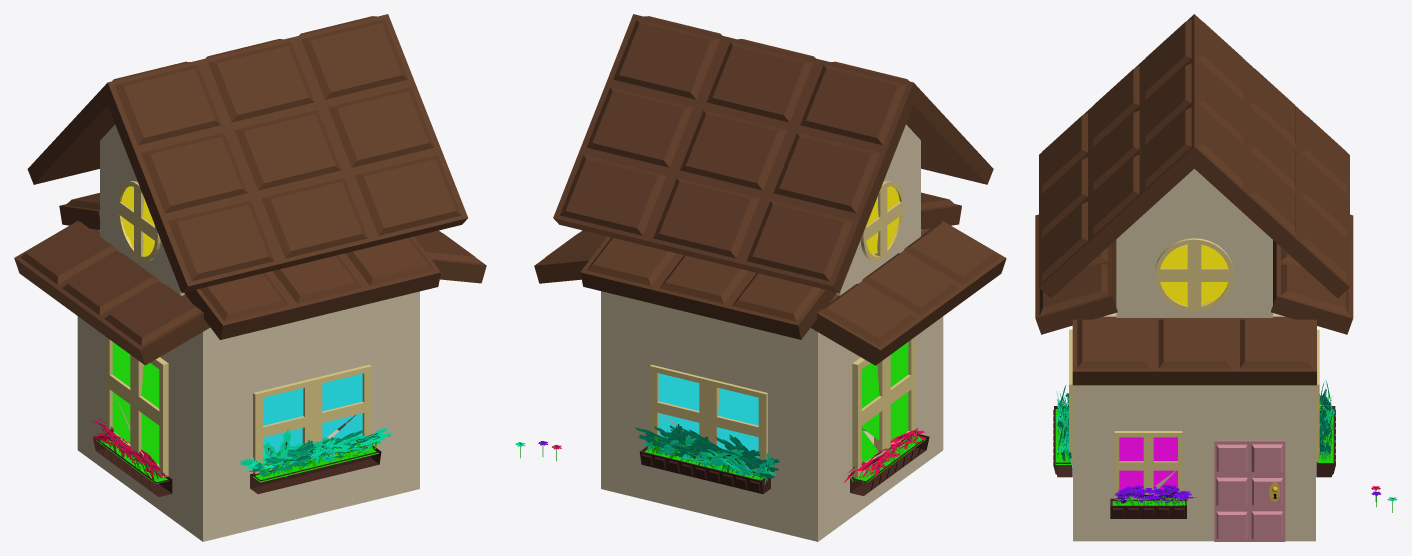
File: casa de chocolate.fbx
3 views of the same model, side by side, from view 1: azimuth 30°, elevation 25°; view 2: azimuth 150°, elevation 25°; view 3: azimuth 270°, elevation 25° (orthographic). The views are drawn at different scales.
Visible parts, largest first — view 1: Cube; view 2: Cube; view 3: Cube, Flowers1.
Part boxes in pixels (<box>): Cube: <box>14,14,486,541</box>; Cube: <box>534,14,1006,541</box>; Cube: <box>1035,14,1353,541</box>; Flowers1: <box>1057,409,1330,462</box>.
Size of the model in its own units: 1928 by 2242 by 1799.
